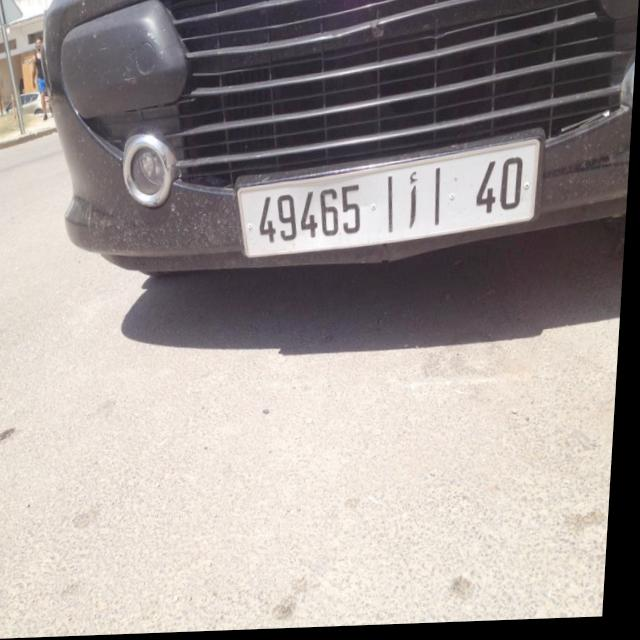License-Plate: (240, 142, 542, 260)
